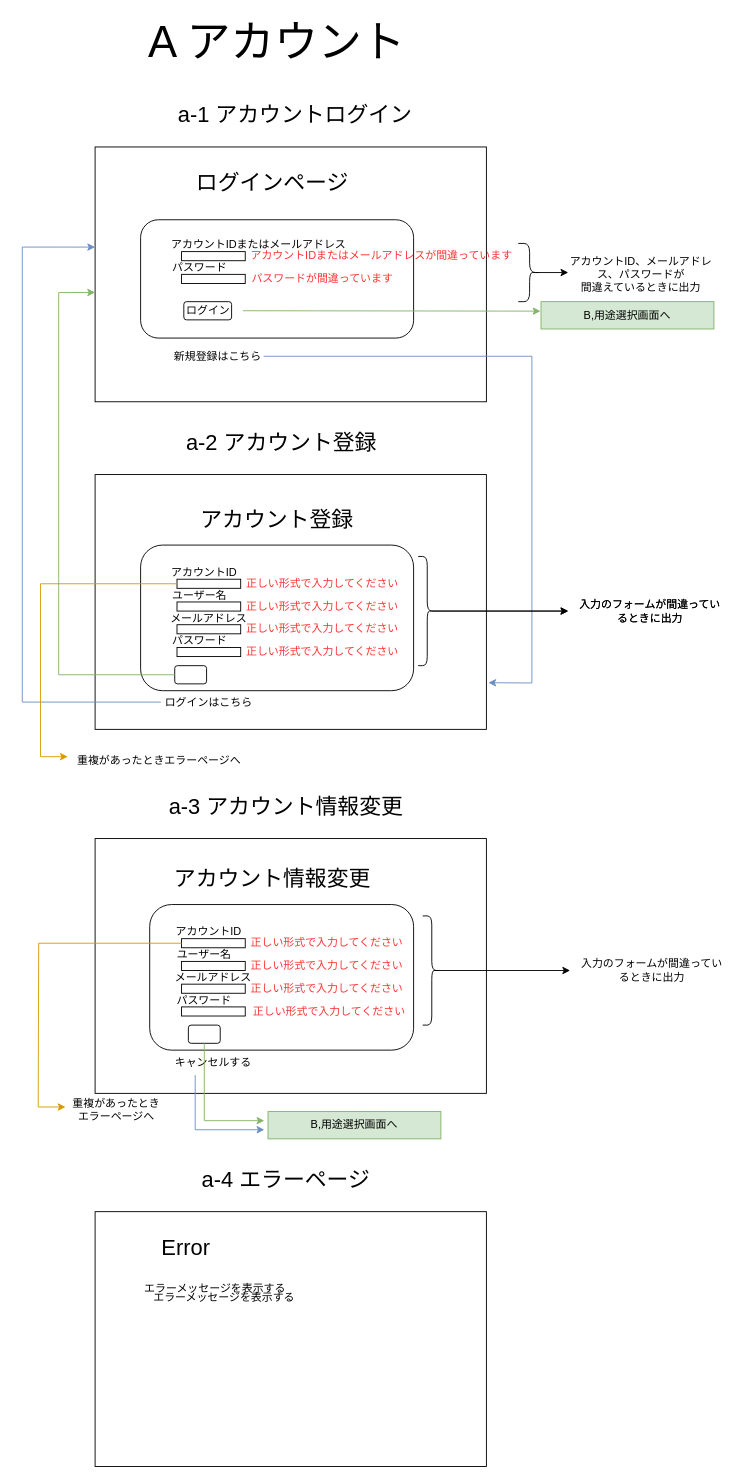
Some shapes in this 741 by 1482 pixel diagram are drawn without their labels. Here are the shapes that lost their labels. From the top down, the centre of each, then its label:
(x=190, y=674): 登録
(x=203, y=1033): 保存
